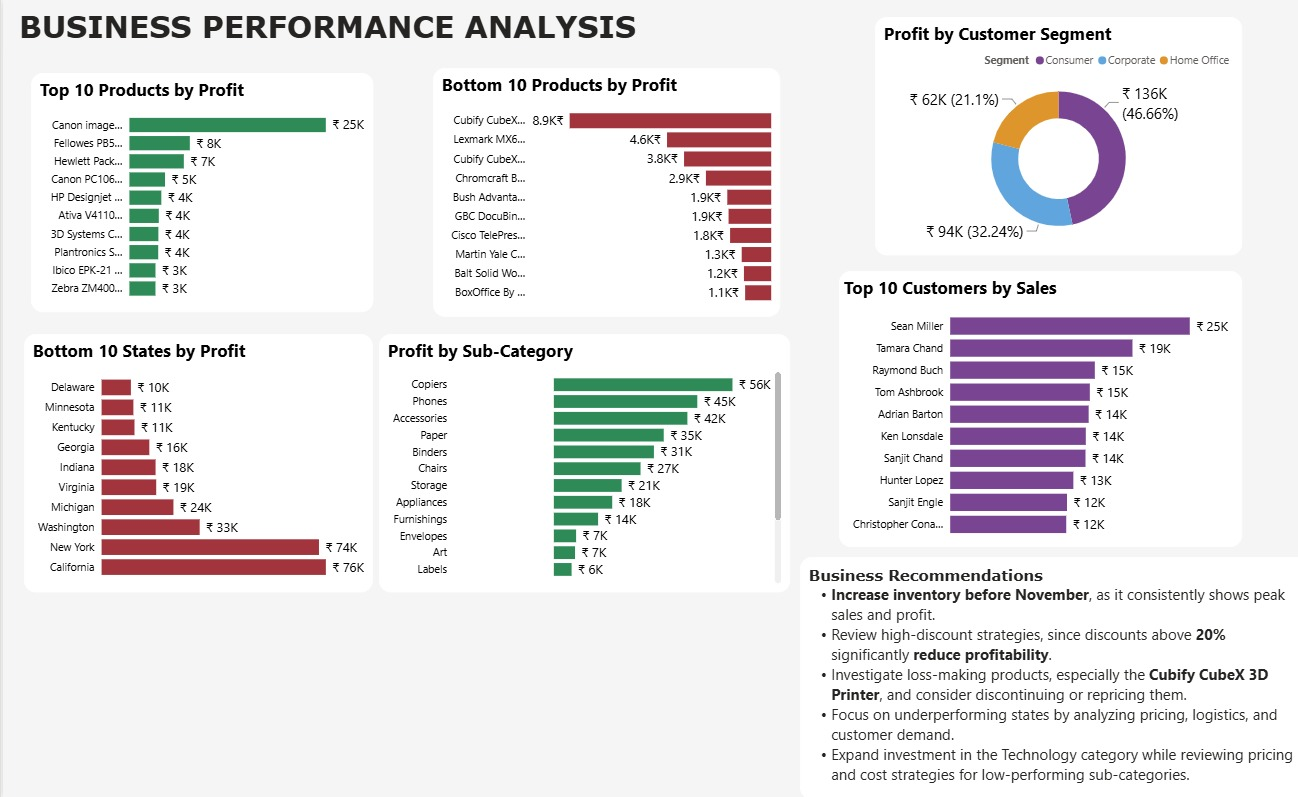

This screenshot's page, from the dashboard's own definition file:
{"tool":"powerbi","page":{"name":"Business Analysis","canvas":[1640,1000],"ordinal":1},"visuals":[{"type":"clusteredBarChart","title":"Top 10 Products by Profit","fields":{"Category":["Superstore_Cleaned.Product Name"],"Y":["Superstore_Cleaned.Total Profit"]},"box":[35,92.5,427.5,298.8],"z":0},{"type":"clusteredBarChart","title":"Bottom 10 Products by Profit","fields":{"Category":["Superstore_Cleaned.Product Name"],"Y":["Superstore_Cleaned.Total Profit"]},"box":[537.5,86.2,433.8,311.2],"z":1000},{"type":"textbox","box":[0,0,811.2,70],"z":2000},{"type":"clusteredBarChart","title":"Bottom 10 States by Profit","fields":{"Y":["Superstore_Cleaned.Total Profit"],"Category":["Superstore_Cleaned.State/Province"]},"box":[26.2,418.8,436.2,322.5],"z":3000},{"type":"clusteredBarChart","title":"Profit by Sub-Category","fields":{"Category":["Superstore_Cleaned.Sub-Category"],"Y":["Superstore_Cleaned.Total Profit"]},"box":[470,418.8,513.8,322.5],"z":4000},{"type":"donutChart","title":"Profit by Customer Segment","fields":{"Category":["Superstore_Cleaned.Segment"],"Y":["Superstore_Cleaned.Total Profit"]},"box":[1090,22.5,458.8,297.5],"z":5000},{"type":"textbox","box":[996.2,697.5,643.8,302.5],"z":6000},{"type":"clusteredBarChart","title":"Top 10 Customers by Sales","fields":{"Category":["Superstore_Cleaned.Customer Name"],"Y":["Superstore_Cleaned.Total Sales"]},"box":[1045,340,503.8,345],"z":7000}]}

Visuals, with their boxes in screenshot pixels (x1, y1, x2, y2), scaled from the page's 1640x1000 canvas onto the 1298x797 screenshot:
"Top 10 Products by Profit" clusteredBarChart: bbox(28, 74, 366, 312)
"Bottom 10 Products by Profit" clusteredBarChart: bbox(425, 69, 769, 317)
textbox: bbox(0, 0, 642, 56)
"Bottom 10 States by Profit" clusteredBarChart: bbox(21, 334, 366, 591)
"Profit by Sub-Category" clusteredBarChart: bbox(372, 334, 779, 591)
"Profit by Customer Segment" donutChart: bbox(863, 18, 1226, 255)
textbox: bbox(788, 556, 1297, 796)
"Top 10 Customers by Sales" clusteredBarChart: bbox(827, 271, 1226, 546)
